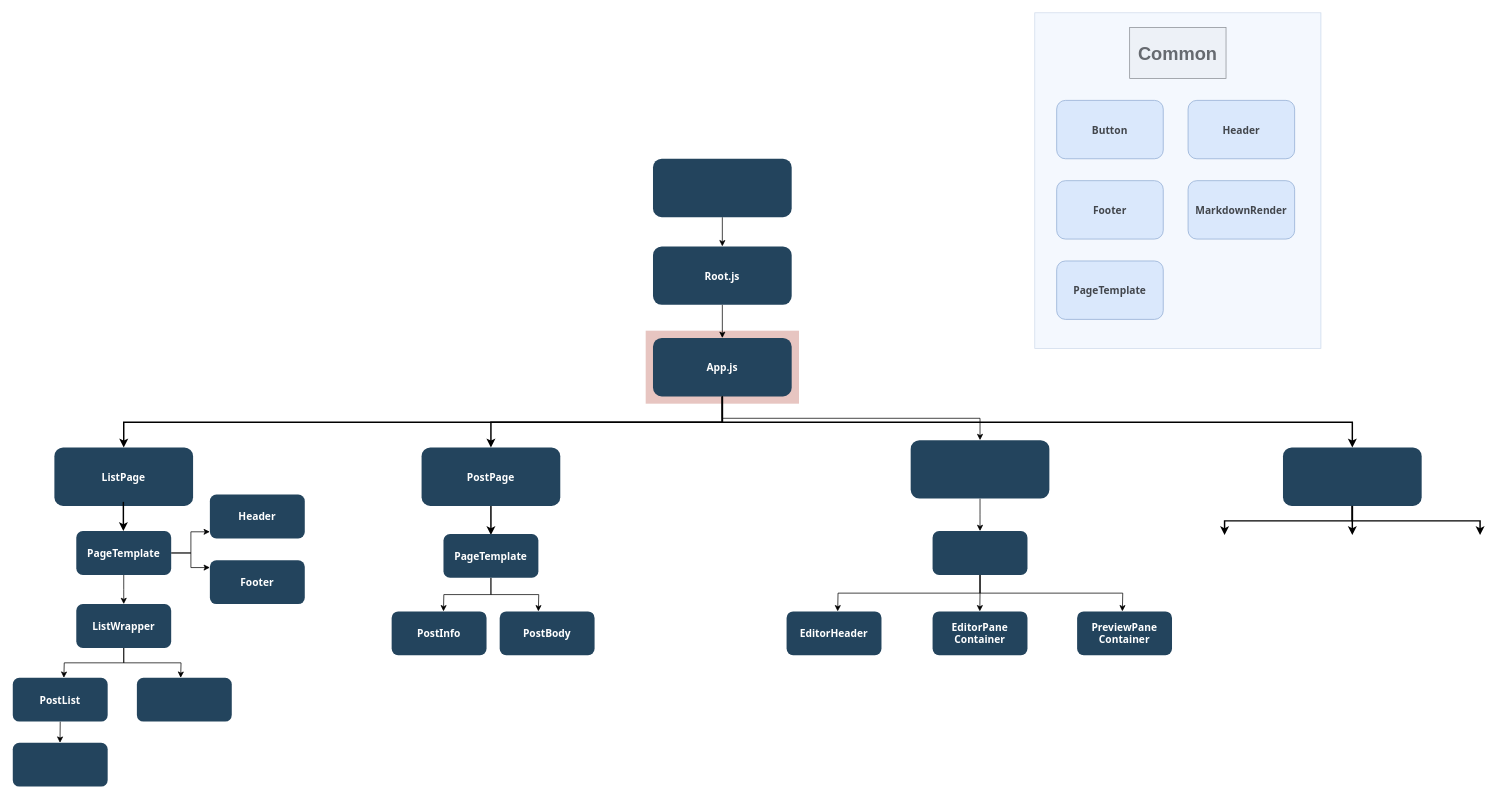
Some shapes in this 1499 by 799 pixel diagram are drawn without their labels. Each missing label, with the centre of its shape:
"EditorPage" belongs at point (979, 469).
"EditorTemplate" belongs at point (979, 553).
"index.js" belongs at point (722, 187).
"NotFoundPage" belongs at point (1352, 476).
"Pagination" belongs at point (184, 699).
"PostItem" belongs at point (59, 764).
